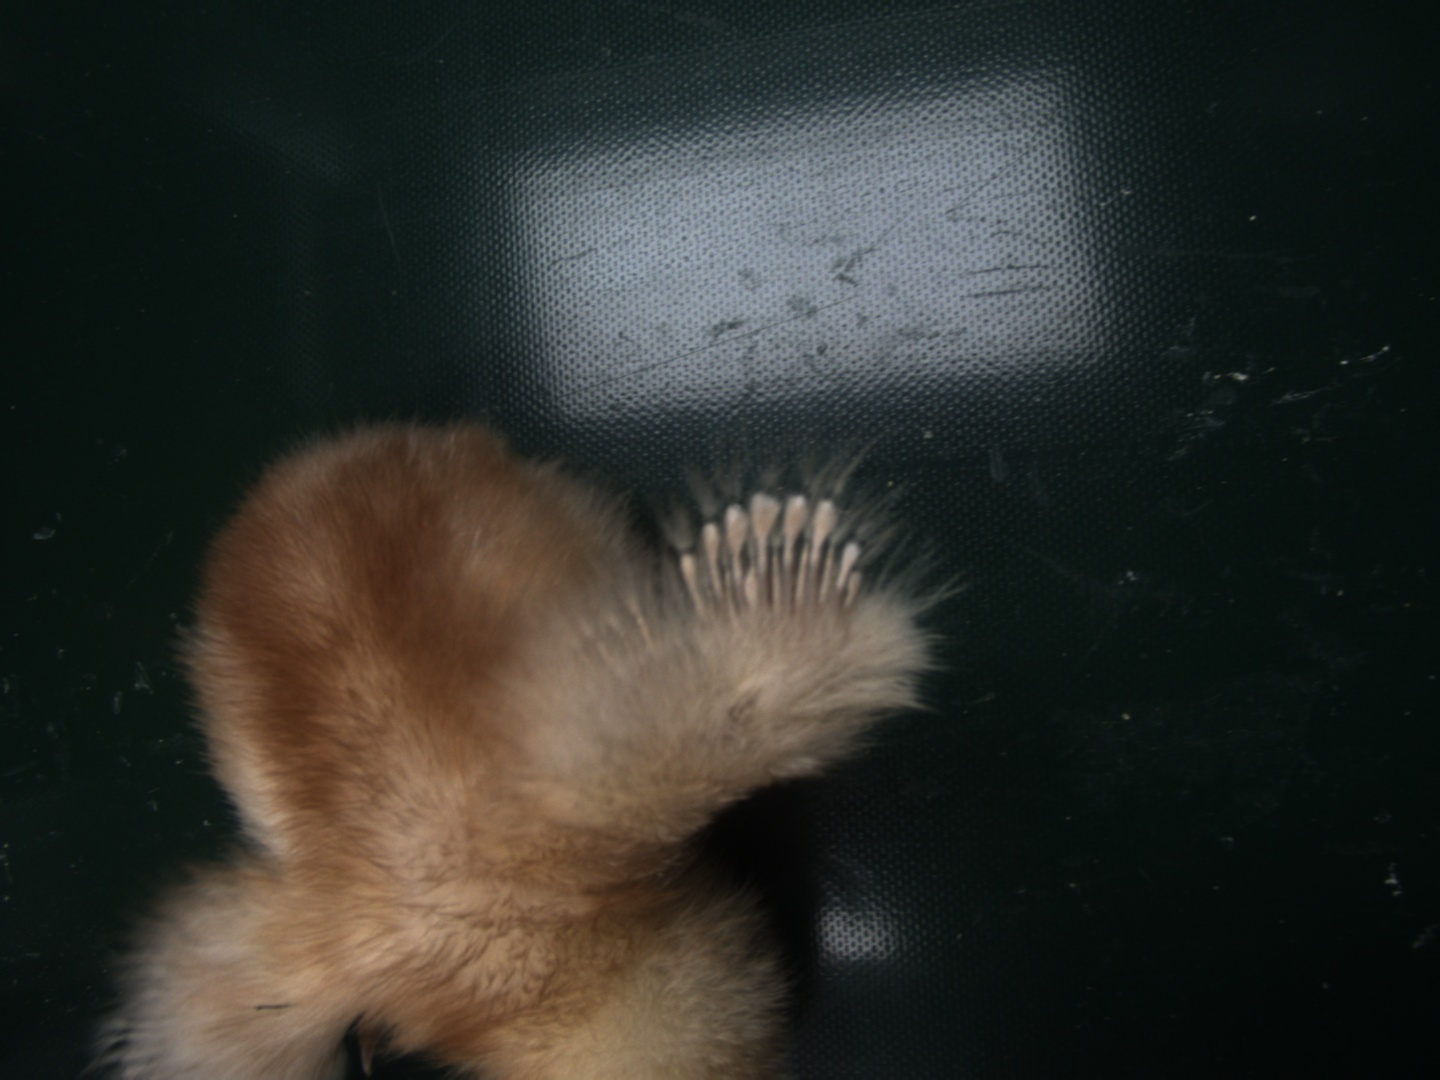female: (664, 486, 869, 639)
